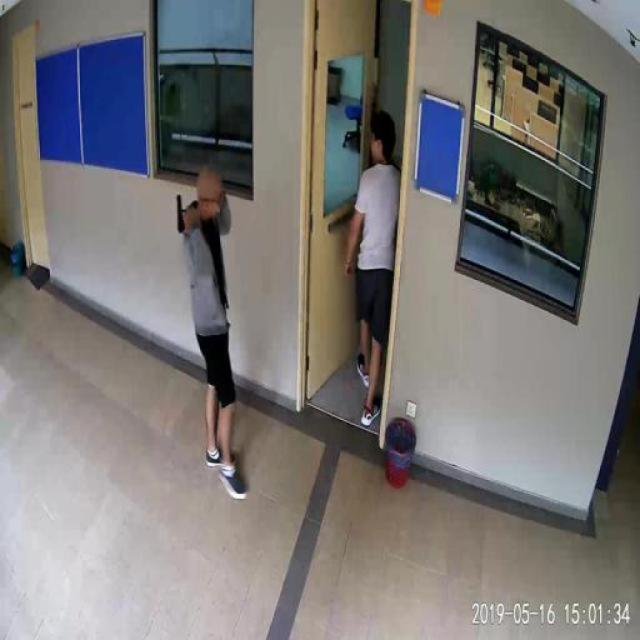pistol: (175, 188, 196, 232)
